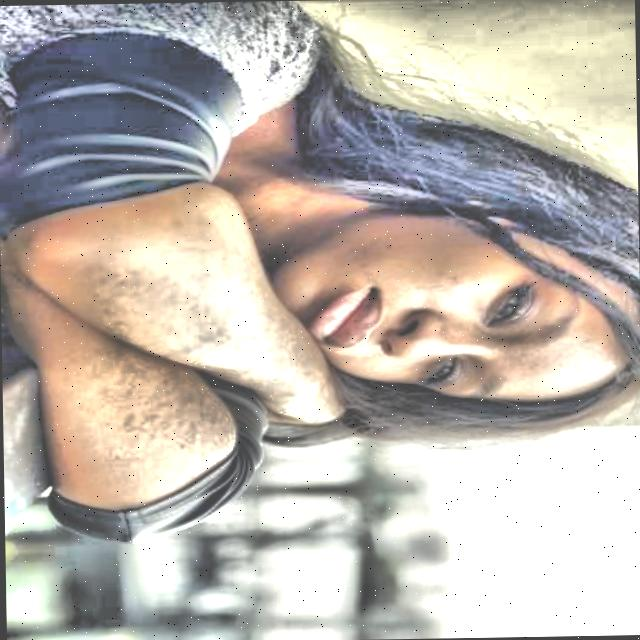sad: (199, 152, 640, 455)
